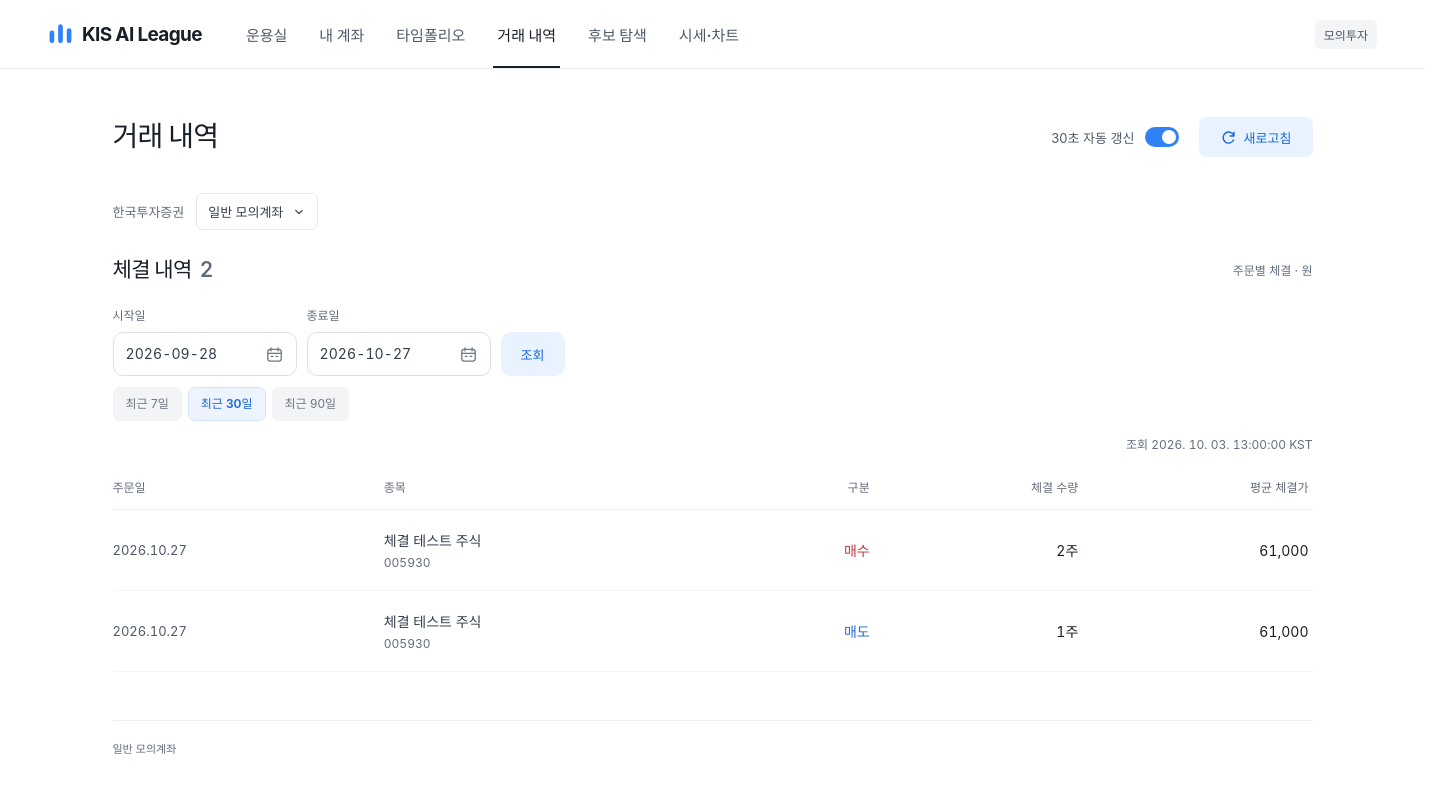
it: trade history › replaces the same order aggregate after partial fills and formats both sides
Check: the cell "2주" is shown, box [880,510,1088,591]
Check: the cell "매수" is shown, box [738,510,880,591]
Click the button "새로고침".
click(1256, 137)  # box [1198,117,1312,157]
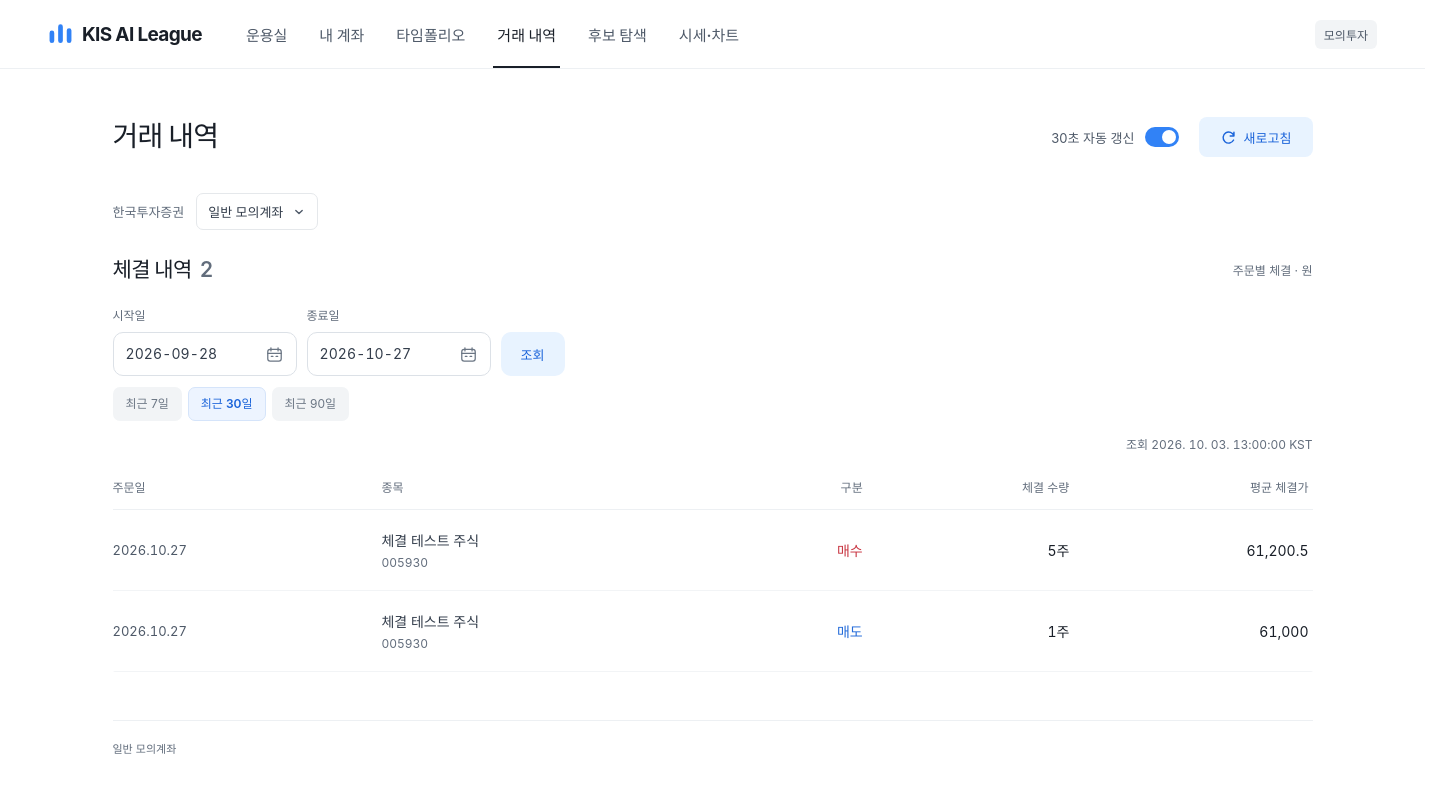
Check: the cell "2주" is gone
Check: the cell "5주" is shown, box [873,510,1079,591]
Check: the cell "61,200.5" is shown, box [1079,510,1312,591]
